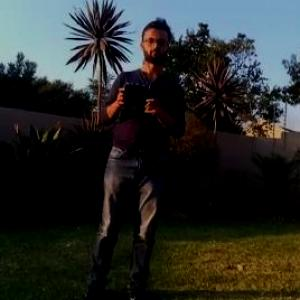follow: (75, 9, 193, 299)
